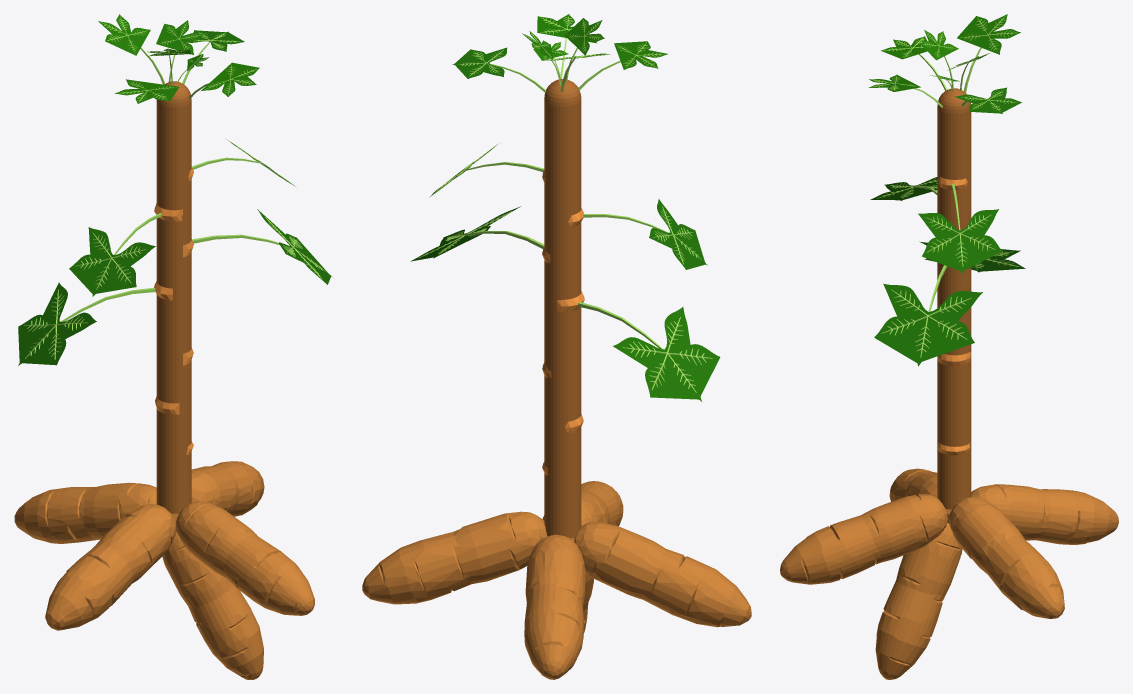
File: cassava.fbx
The picture shows the model from 3 angles, left to right: view 1: azimuth 30°, elevation 25°; view 2: azimuth 150°, elevation 25°; view 3: azimuth 270°, elevation 25°; orthographic projection. The views are drawn at different scales.
Parts seen in each view (by area): view 1: Cylinder.001, Umbi.006, Umbi.008, Umbi.007, Umbi.010, Umbi.009, Circle.005, Circle.003, Batang.050, Branch.015, Leaf.019, Leaf.021 (+6 smaller); view 2: Cylinder.001, Umbi.006, Umbi.009, Umbi.010, Circle.005, Umbi.008, Circle.003, Branch.015, Circle.004, Batang.050, Leaf.022, Circle.001 (+4 smaller); view 3: Cylinder.001, Umbi.008, Umbi.009, Umbi.007, Umbi.010, Circle.001, Circle.002, Leaf.019, Umbi.006, Branch.001, Batang.050, Circle.004 (+5 smaller).
Part boxes in pixels (x1,y1,x2,y2): Cylinder.001: (156, 81, 191, 513); Umbi.006: (45, 504, 176, 630); Umbi.008: (176, 501, 314, 615); Umbi.007: (162, 532, 263, 679); Umbi.010: (14, 482, 156, 543); Umbi.009: (191, 461, 264, 516); Circle.005: (18, 282, 96, 365); Circle.003: (69, 227, 155, 296); Batang.050: (154, 168, 193, 455); Branch.015: (24, 287, 155, 359); Leaf.019: (98, 14, 150, 55); Leaf.021: (201, 62, 259, 96); Cylinder.001: (544, 79, 581, 538); Umbi.006: (574, 521, 751, 627); Umbi.009: (362, 511, 547, 604); Umbi.010: (524, 534, 585, 679); Circle.005: (613, 307, 720, 401); Umbi.008: (542, 481, 623, 526); Circle.003: (649, 199, 707, 269); Branch.015: (578, 302, 712, 392); Circle.004: (452, 47, 507, 78); Batang.050: (542, 171, 584, 475); Leaf.022: (614, 41, 668, 69); Circle.001: (410, 206, 520, 261); Cylinder.001: (937, 88, 971, 509); Umbi.008: (780, 494, 947, 584); Umbi.009: (949, 496, 1064, 618); Umbi.007: (875, 523, 962, 679); Umbi.010: (971, 484, 1118, 544); Circle.001: (874, 283, 982, 366); Circle.002: (918, 209, 1002, 273); Leaf.019: (957, 14, 1020, 54); Umbi.006: (889, 468, 937, 501); Branch.001: (881, 265, 971, 357); Batang.050: (937, 176, 971, 455); Circle.004: (954, 87, 1021, 114).
Size of the model in its own units: 3371 by 7022 by 3475.
